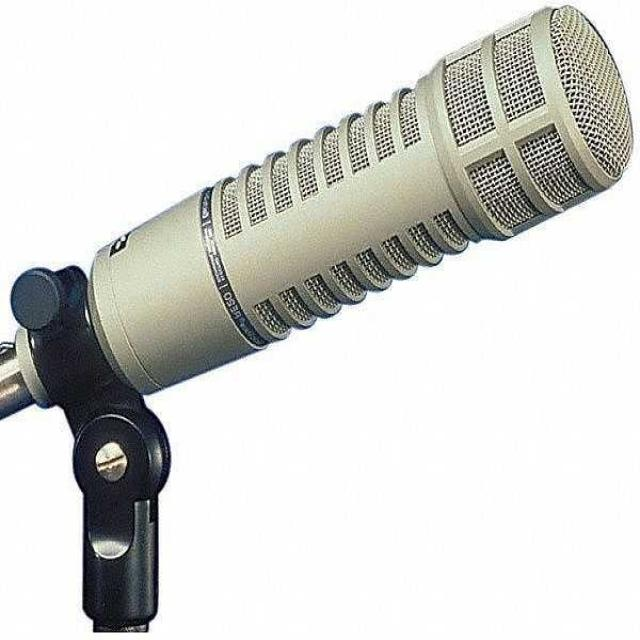microphone: (17, 9, 621, 415)
